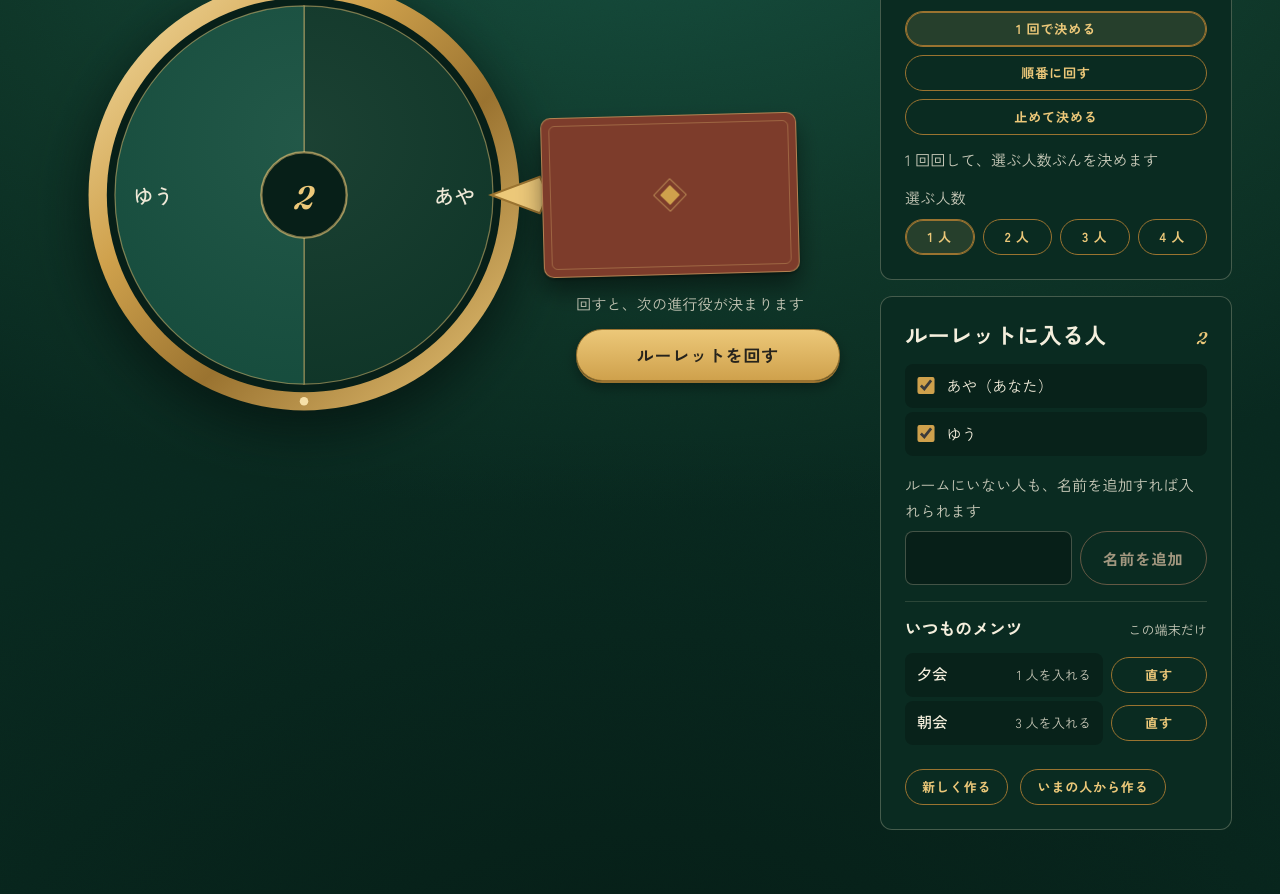
it: いつものメンツを入れる（#458） › Given 自分の名前を含む組 / When 札を押す / Then addMany を送り、とばした知らせが出て、組が先頭へ動いてもフォーカスは札のまま
(page scrolled)
Expected: the button "夕会 1 人を入れる" is shown, [905, 653, 1103, 697]
Click the button "朝会 3 人を入れる": (1004, 723) [905, 701, 1103, 745]
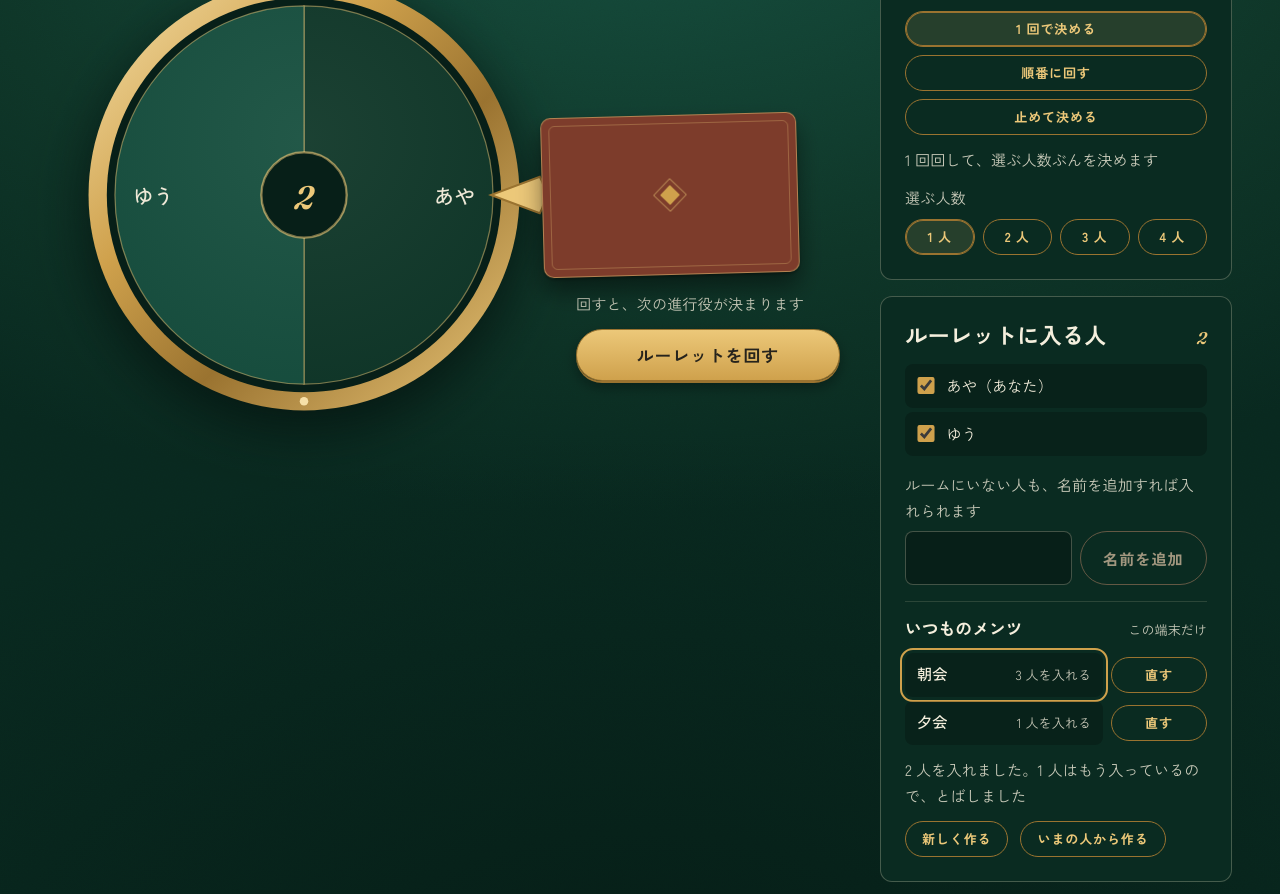
Expected: the button "朝会 3 人を入れる" is shown, [905, 653, 1103, 697]
Now the message "2 人を入れました。1 人はもう入っているので、とばしました" is shown, box [905, 757, 1207, 809]
